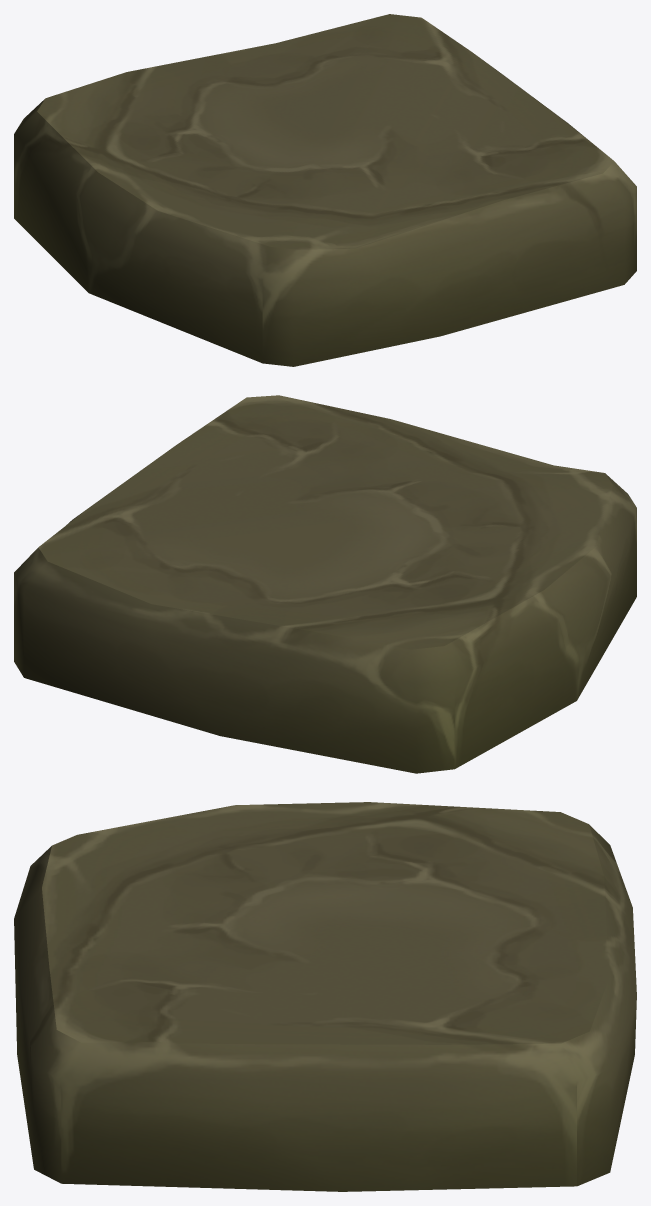
Rendered from Tile_3.FBX.
3 views of the same model, one above another, from view 1: azimuth 30°, elevation 25°; view 2: azimuth 150°, elevation 25°; view 3: azimuth 270°, elevation 25° (orthographic). The views are drawn at different scales.
Visible parts, largest first — view 1: Tile_3; view 2: Tile_3; view 3: Tile_3.
Boxes of the visible parts, left/top/right/bottom form: Tile_3: left=14, top=14, right=636, bottom=366; Tile_3: left=14, top=395, right=636, bottom=773; Tile_3: left=14, top=802, right=636, bottom=1191.
Size of the model in its own units: 128 by 125 by 29.59.
